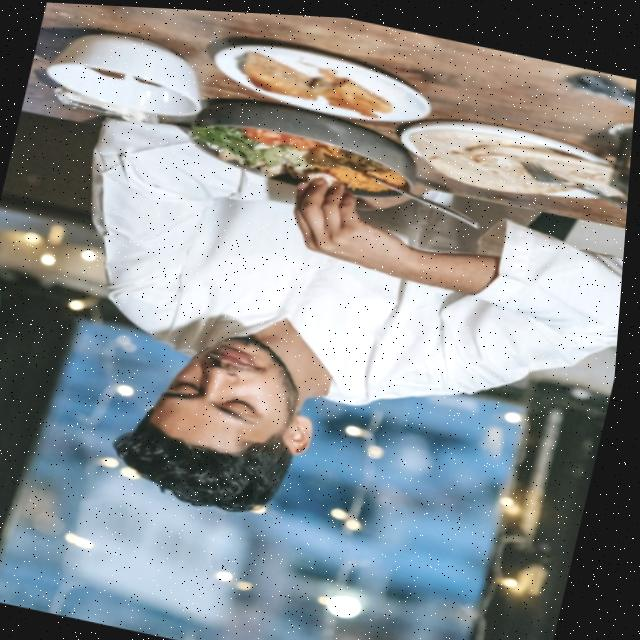eating-person: (42, 5, 635, 519)
